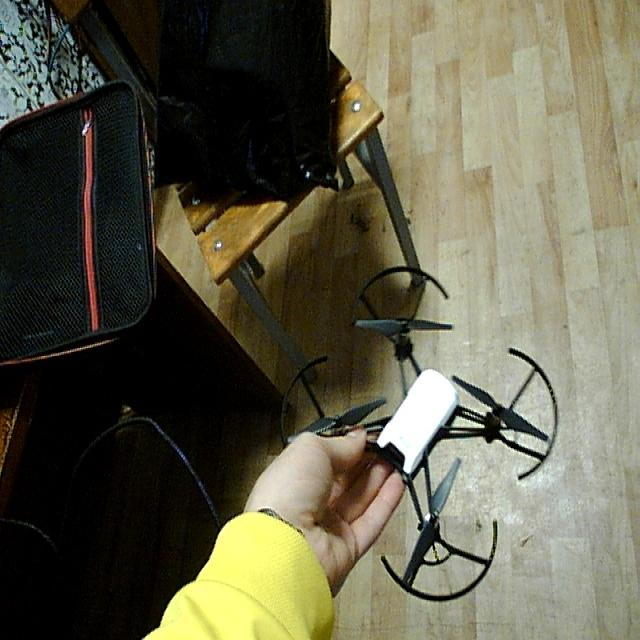drone: (274, 272, 568, 603)
